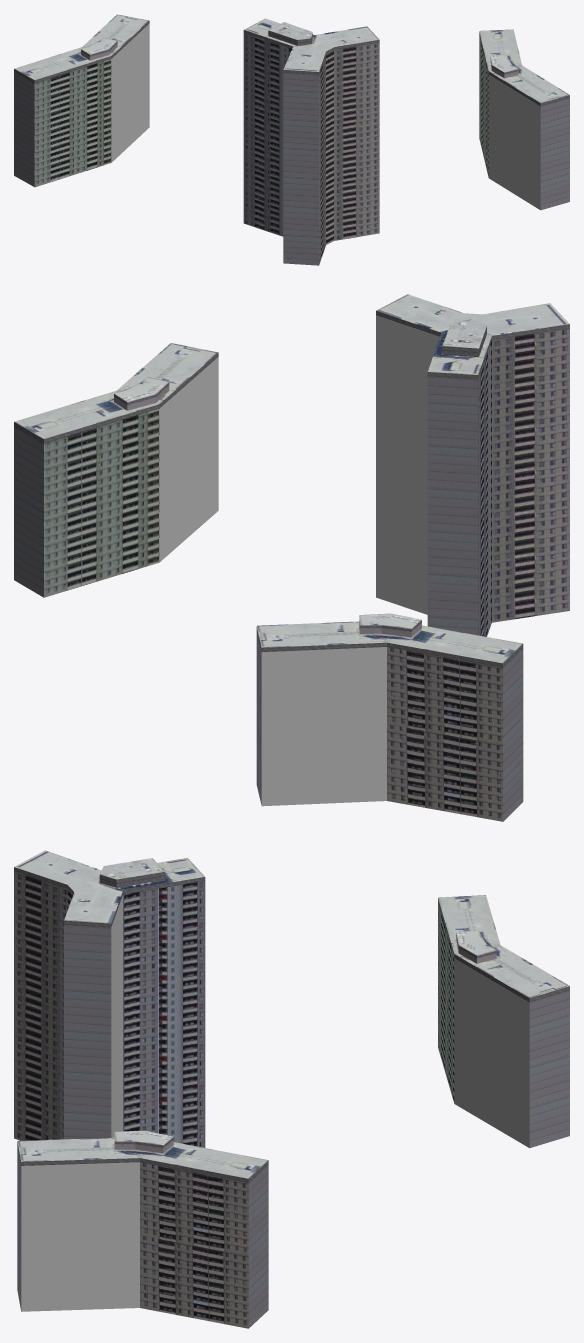
The model's file is cluster18.gltf.
The picture shows the model from 3 angles, top to bottom: view 1: azimuth 30°, elevation 25°; view 2: azimuth 150°, elevation 25°; view 3: azimuth 270°, elevation 25°; orthographic projection. The views are drawn at different scales.
Visible parts, largest first — view 1: root; view 2: root; view 3: root.
Boxes of the visible parts, x1,y1,x2,y2 form: root: (14, 14, 569, 265); root: (14, 294, 569, 821); root: (14, 850, 569, 1328).
Size of the model in its own units: 179 by 82.02 by 148.
Materials: 10 (9 with a texture image).
